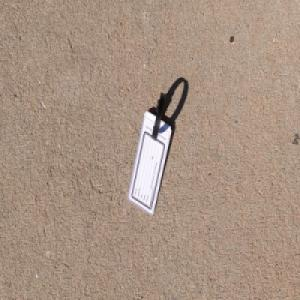LuggageTag: (127, 90, 172, 216)
